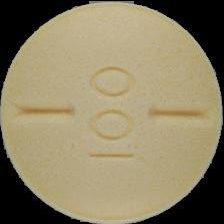66336-537: (0, 0, 224, 224)
